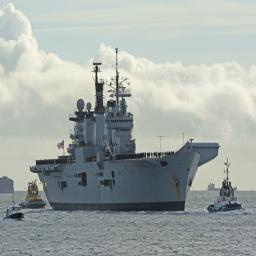Portanaves: (27, 42, 222, 218)
